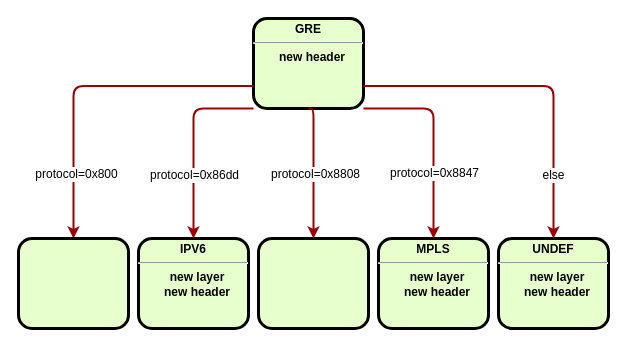
Some shapes in this 627 by 347 pixel diagram are drawn without their labels. Here are the shapes that lost their labels. From the top down, the centre of each, then its label:
point 73,283: IPV4 new layer new header
point 313,283: Ethernet new layer new header
